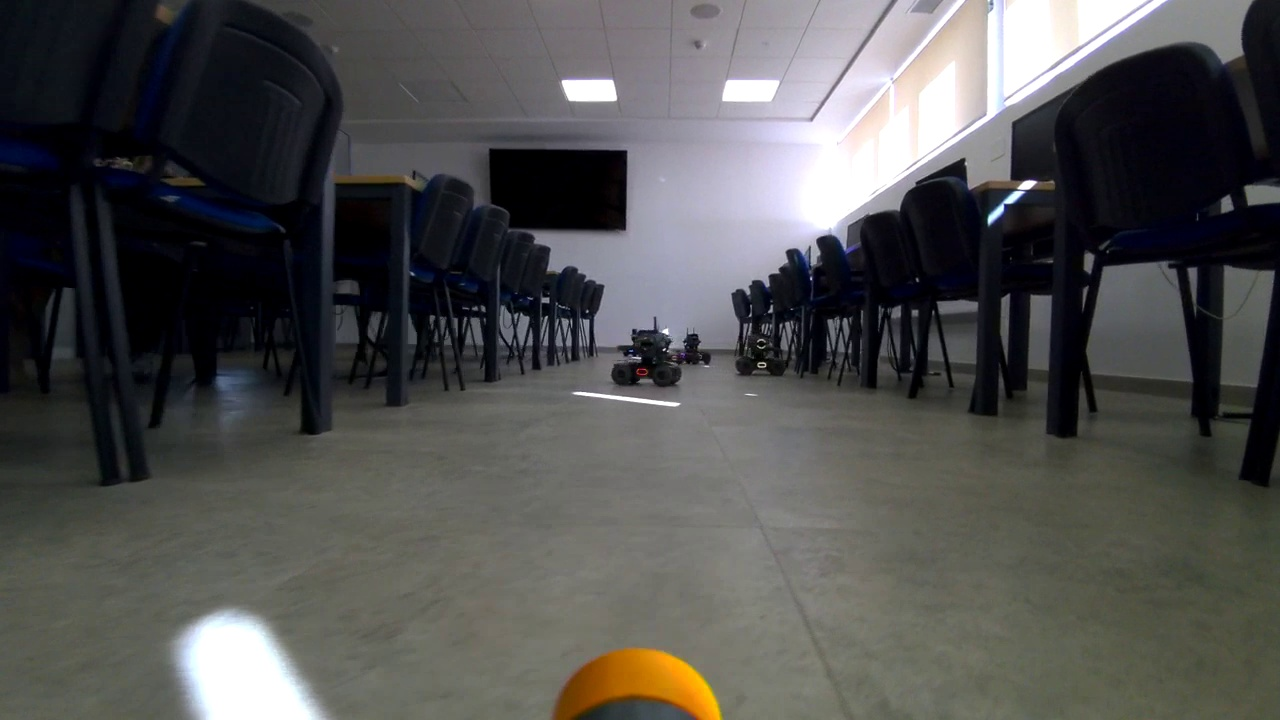robot: (609, 328, 684, 389), (736, 327, 792, 378), (676, 322, 711, 366)
